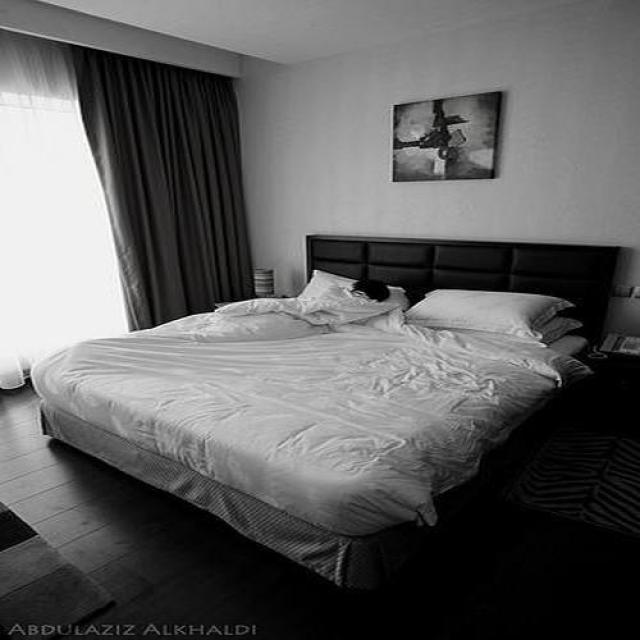bed: (29, 236, 620, 596)
